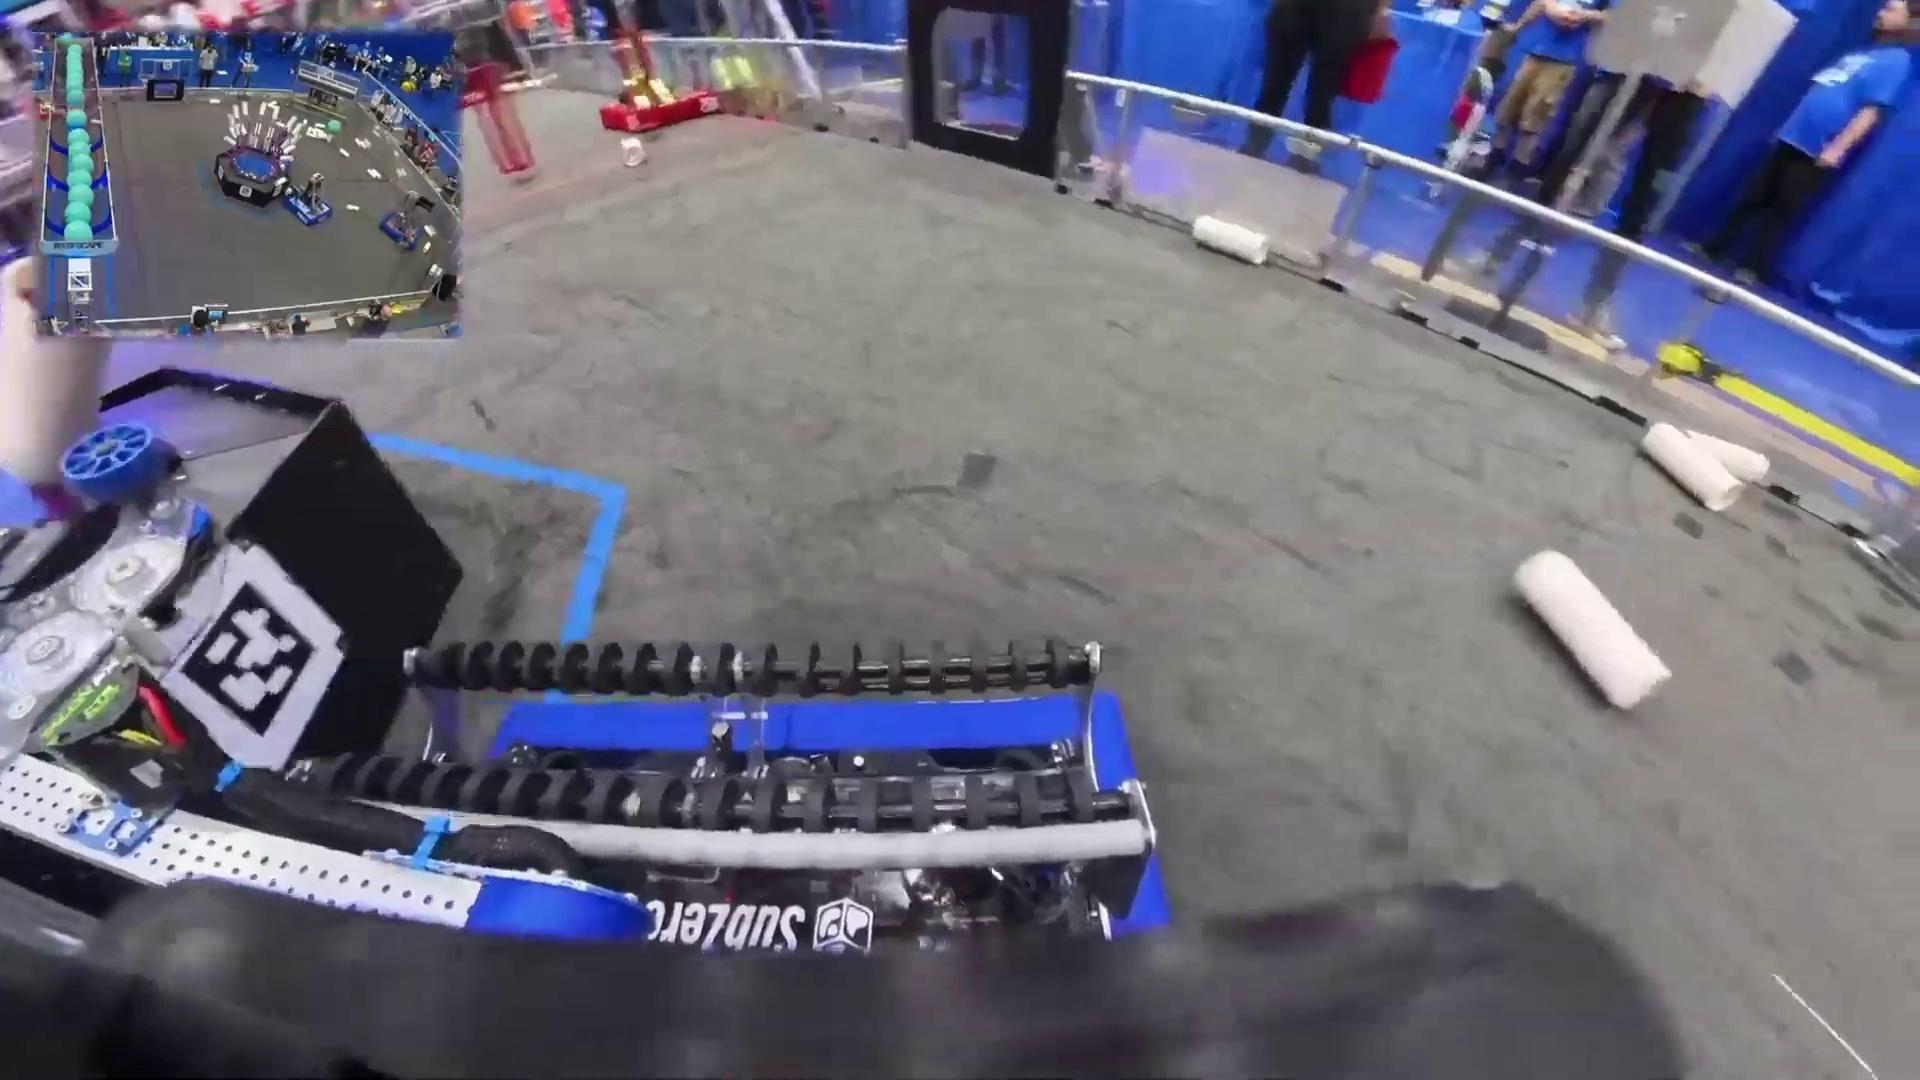robot: (603, 26, 728, 135), (280, 165, 338, 232), (375, 194, 427, 251)
